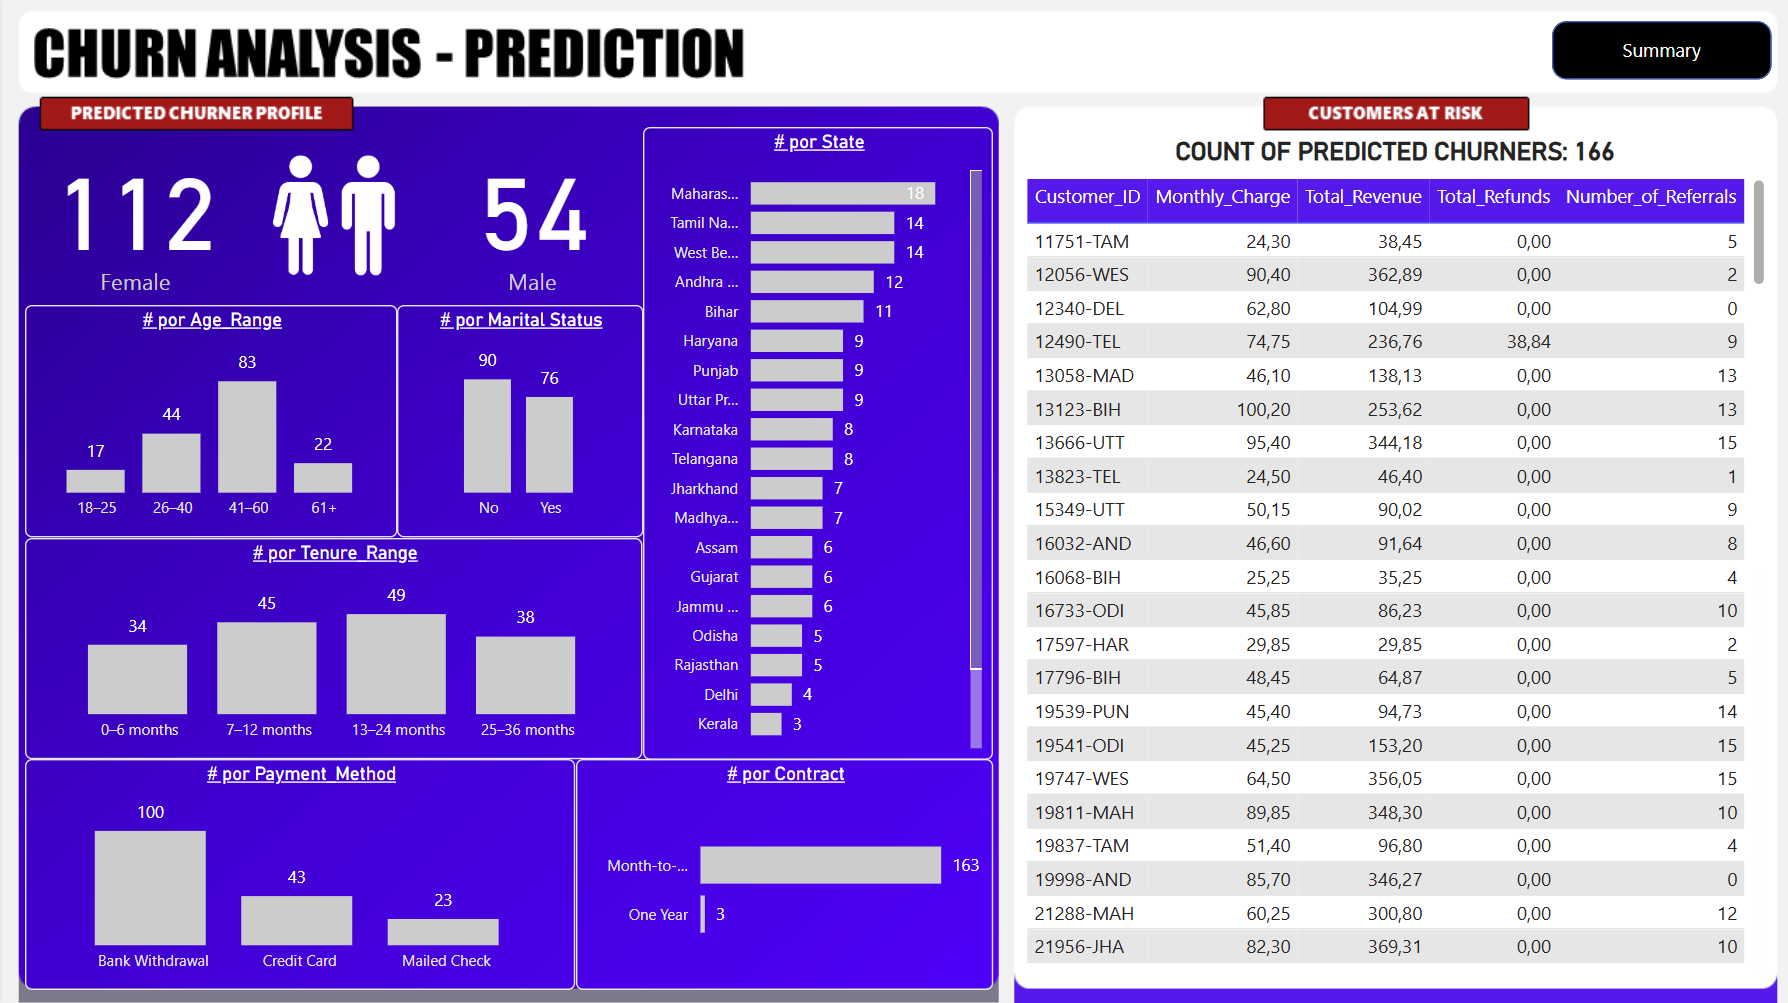

The page's visual inventory and layout, read from the dashboard file:
{"tool":"powerbi","page":{"name":"Churn Predictions","canvas":[1280,720],"ordinal":2},"visuals":[{"type":"tableEx","fields":{"Values":["predictions.Customer_ID","predictions.Monthly_Charge","predictions.Total_Revenue","predictions.Total_Refunds","predictions.Number_of_Referrals"]},"box":[726.4,124.1,537.9,574.7],"z":0},{"type":"card","fields":{"Values":["tbl_Measures.Title Predicted Churner"]},"box":[763.4,92,463.3,34.5],"z":1},{"type":"card","fields":{"Values":["tbl_Measures.Count Predicted Churner"]},"box":[16.7,94.6,157.9,120.3],"z":2},{"type":"card","fields":{"Values":["tbl_Measures.Count Predicted Churner"]},"box":[300.1,94.6,157.9,120.3],"z":3},{"type":"clusteredColumnChart","fields":{"Category":["mapping_AgeGrp.Age_Range"],"Y":["CountNonNull(predictions.Customer_ID)"]},"box":[16.7,219.6,265.6,166.3],"z":4},{"type":"clusteredColumnChart","fields":{"Y":["CountNonNull(predictions.Customer_ID)"],"Category":["predictions.Married"]},"box":[282.4,219.6,175.7,166.3],"z":5},{"type":"clusteredColumnChart","fields":{"Y":["CountNonNull(predictions.Customer_ID)"],"Category":["mapping_TenureGrp.Tenure_Range"]},"box":[16.7,385.9,441.3,157.9],"z":6},{"type":"clusteredColumnChart","fields":{"Y":["CountNonNull(predictions.Customer_ID)"],"Category":["predictions.Payment_Method"]},"box":[16.7,543.8,393.2,165.2],"z":7},{"type":"clusteredBarChart","fields":{"Category":["predictions.Contract"],"Y":["CountNonNull(predictions.Customer_ID)"]},"box":[409.9,543.8,298,165.2],"z":8},{"type":"clusteredBarChart","fields":{"Category":["predictions.State"],"Y":["CountNonNull(predictions.Customer_ID)"]},"box":[458,92,249.9,451.8],"z":9},{"type":"image","box":[176.7,95.2,121.3,119.2],"z":10},{"type":"shape","box":[1107.5,16.7,156.9,41.8],"z":11}]}

Visuals, with their boxes in screenshot pixels (x1, y1, x2, y2), scaled from the page's 1280x720 canvas onto the 1788x1003 screenshot:
tableEx - predictions.Customer_ID x predictions.Monthly_Charge: pyautogui.locateOnScreen(1015, 173, 1766, 973)
card - tbl_Measures.Title Predicted Churner: pyautogui.locateOnScreen(1066, 128, 1714, 176)
card - tbl_Measures.Count Predicted Churner: pyautogui.locateOnScreen(23, 132, 244, 299)
card - tbl_Measures.Count Predicted Churner: pyautogui.locateOnScreen(419, 132, 640, 299)
clusteredColumnChart - mapping_AgeGrp.Age_Range x CountNonNull(predictions.Customer_ID): pyautogui.locateOnScreen(23, 306, 394, 538)
clusteredColumnChart - CountNonNull(predictions.Customer_ID) x predictions.Married: pyautogui.locateOnScreen(394, 306, 640, 538)
clusteredColumnChart - CountNonNull(predictions.Customer_ID) x mapping_TenureGrp.Tenure_Range: pyautogui.locateOnScreen(23, 538, 640, 758)
clusteredColumnChart - CountNonNull(predictions.Customer_ID) x predictions.Payment_Method: pyautogui.locateOnScreen(23, 758, 573, 988)
clusteredBarChart - predictions.Contract x CountNonNull(predictions.Customer_ID): pyautogui.locateOnScreen(573, 758, 989, 988)
clusteredBarChart - predictions.State x CountNonNull(predictions.Customer_ID): pyautogui.locateOnScreen(640, 128, 989, 758)
image: pyautogui.locateOnScreen(247, 133, 416, 299)
shape: pyautogui.locateOnScreen(1547, 23, 1766, 81)
